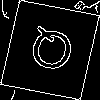Q: (25, 25, 78, 81)
